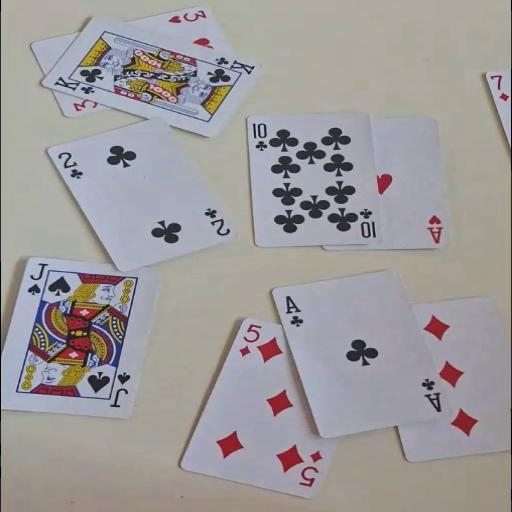10: (358, 207, 376, 239), (250, 121, 269, 151)
2: (201, 205, 232, 237), (54, 150, 84, 180)
3: (165, 7, 208, 24)
5: (296, 448, 324, 488), (236, 321, 264, 358)
7: (488, 72, 510, 102)
A: (420, 376, 444, 413), (282, 294, 305, 328), (424, 213, 444, 244)
J: (107, 370, 132, 408), (24, 261, 49, 297)
K: (51, 74, 100, 96), (213, 55, 256, 75)
